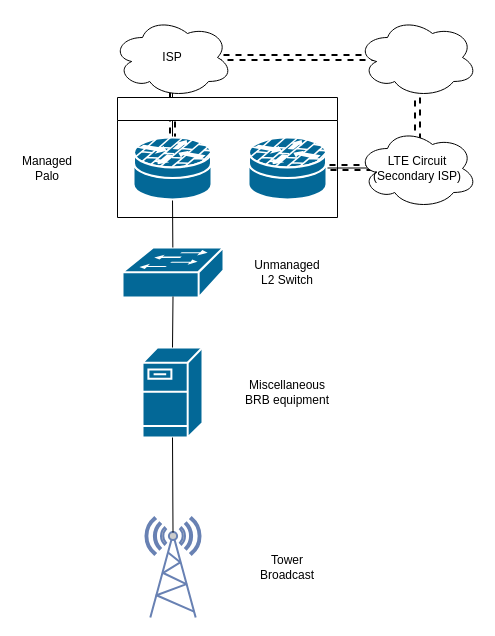
Image size: 495x636. Some labels were removed from this diagram. Each missing label, with the centre of its shape:
BRB Main Broadcast: point (417, 57)
HA Pair: point (227, 157)
